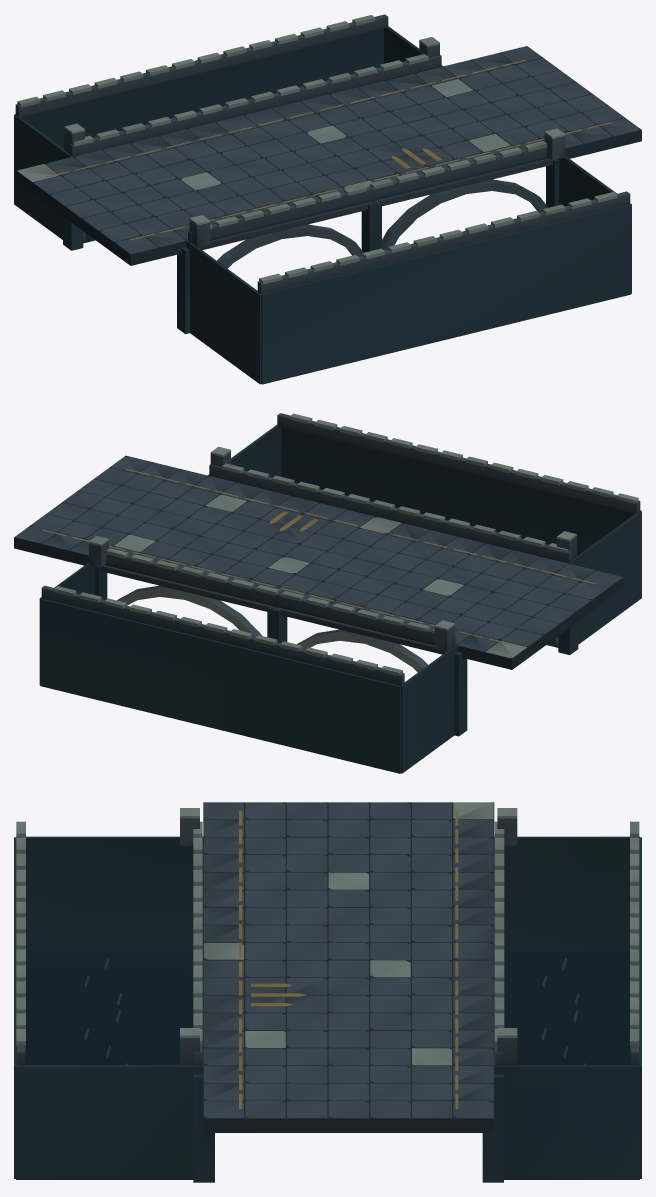
File: moonveil-sovereign-bridge-v1.glb
The picture shows the model from 3 angles, top to bottom: view 1: azimuth 30°, elevation 25°; view 2: azimuth 150°, elevation 25°; view 3: azimuth 270°, elevation 25°; orthographic projection. The views are drawn at different scales.
Visible parts, largest first — view 1: GB_BRIDGE_DECK, GB_BRIDGE_SOUTH, GB_BRIDGE_NORTH, GB_BRIDGE_ARCHES; view 2: GB_BRIDGE_DECK, GB_BRIDGE_NORTH, GB_BRIDGE_SOUTH, GB_BRIDGE_ARCHES; view 3: GB_BRIDGE_DECK, GB_BRIDGE_SOUTH, GB_BRIDGE_NORTH, GB_BRIDGE_WATER, GB_BRIDGE_ARCHES.
Boxes of the visible parts, x1,y1,x2,y2 form: GB_BRIDGE_DECK: (16, 46, 641, 265); GB_BRIDGE_SOUTH: (186, 128, 631, 384); GB_BRIDGE_NORTH: (14, 14, 442, 239); GB_BRIDGE_ARCHES: (63, 158, 559, 334); GB_BRIDGE_DECK: (14, 455, 623, 669); GB_BRIDGE_NORTH: (39, 536, 458, 773); GB_BRIDGE_SOUTH: (208, 413, 641, 644); GB_BRIDGE_ARCHES: (94, 565, 578, 736); GB_BRIDGE_DECK: (203, 802, 494, 1132); GB_BRIDGE_SOUTH: (14, 808, 203, 1179); GB_BRIDGE_NORTH: (494, 808, 641, 1179); GB_BRIDGE_WATER: (25, 951, 630, 1064); GB_BRIDGE_ARCHES: (193, 846, 503, 1182).
Size of the model in its own units: 36 by 7.58 by 30.2.
